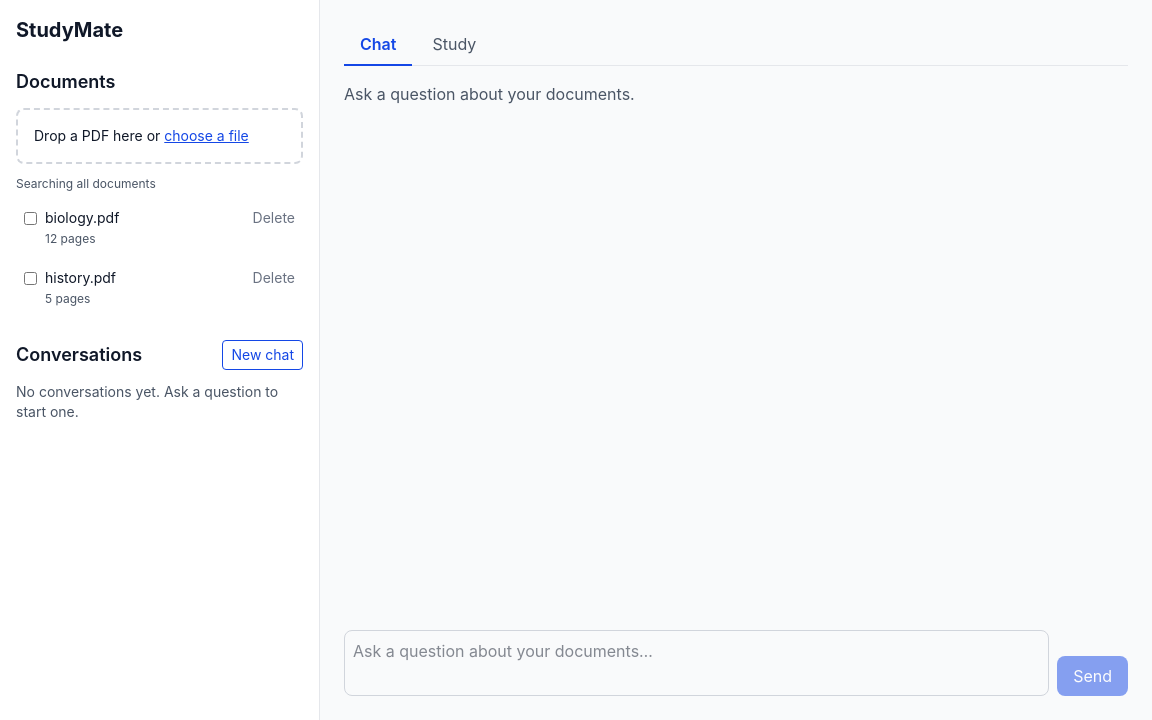
Test: App › uses the current chat's ticked documents in Study
Click the checkbox labelled "history.pdf 5 pages". click: click(30, 278)
box: x1=24 y1=272 x2=37 y2=285
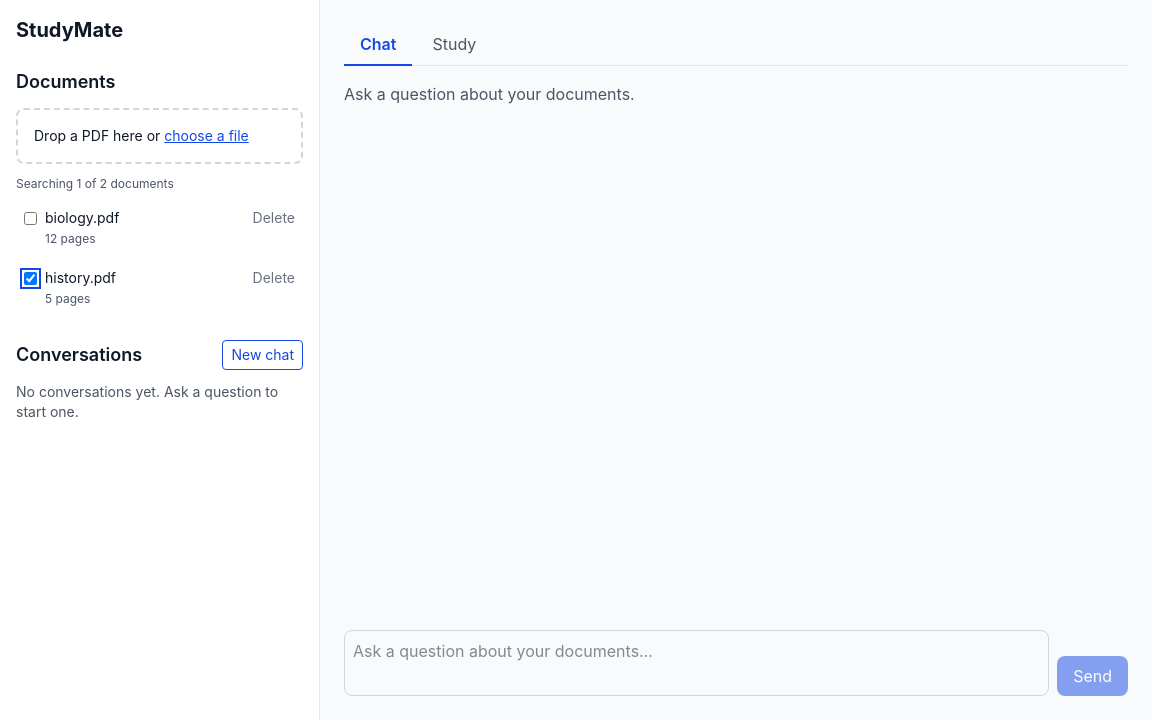
Click the tab "Study". click: click(454, 45)
box: x1=416 y1=24 x2=492 y2=66
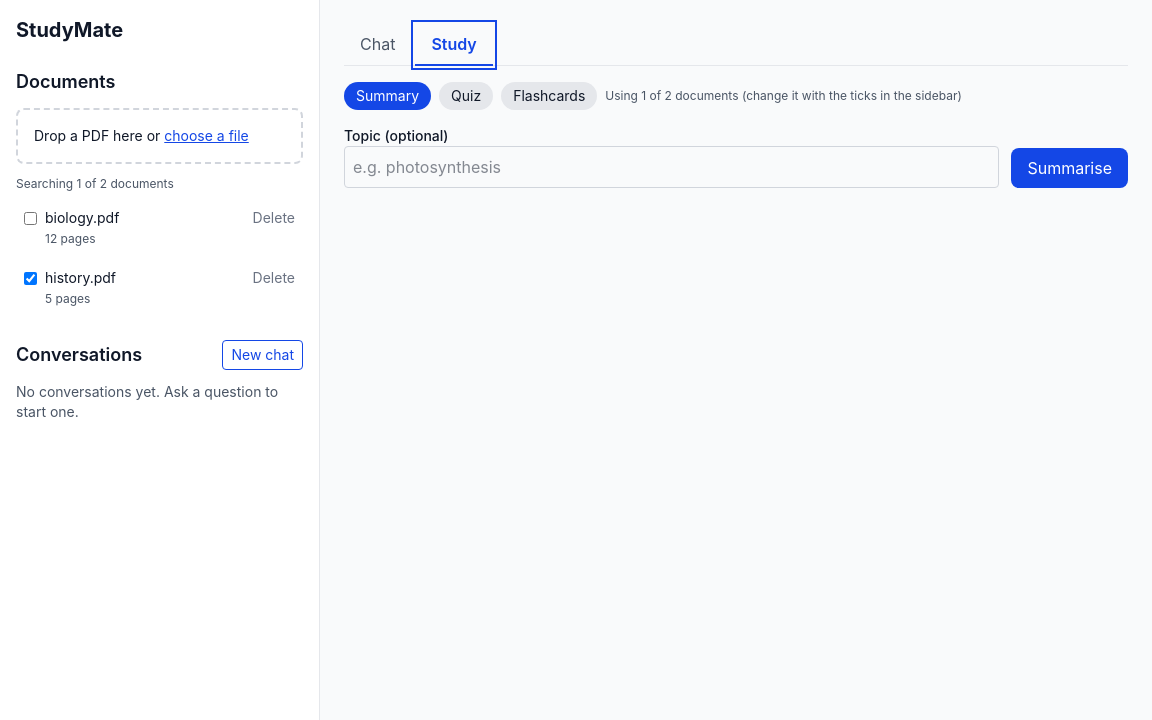
Expected: the text "Using 1 of 2 documents" is shown, x1=605 y1=88 x2=738 y2=103
Click the button "Summarise". click: click(1070, 168)
box: x1=1011 y1=148 x2=1128 y2=188
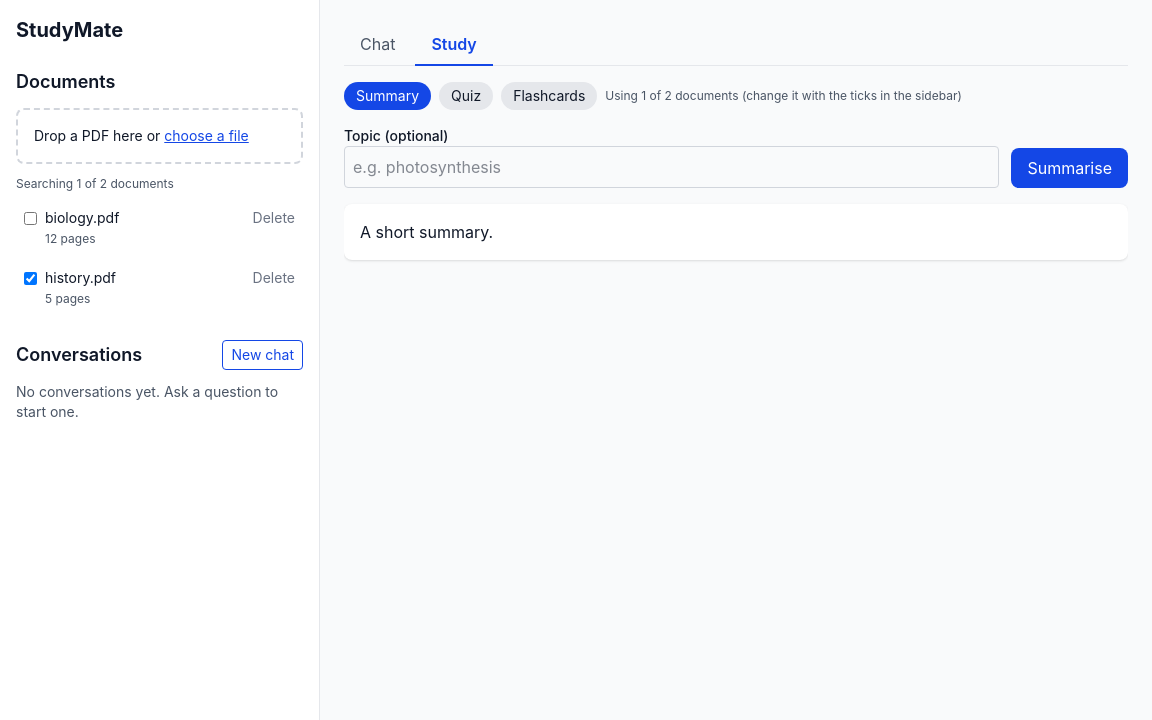
Expected: the text "A short summary." is shown, x1=360 y1=222 x2=493 y2=242
